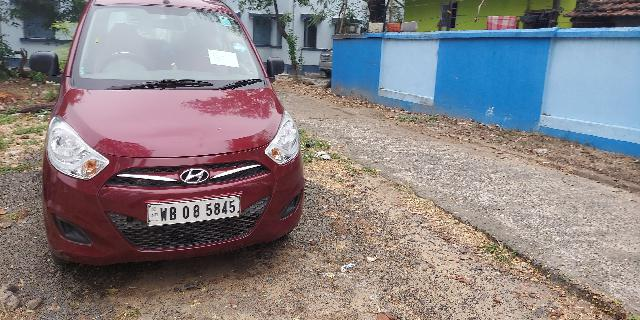Car: (41, 1, 306, 269)
